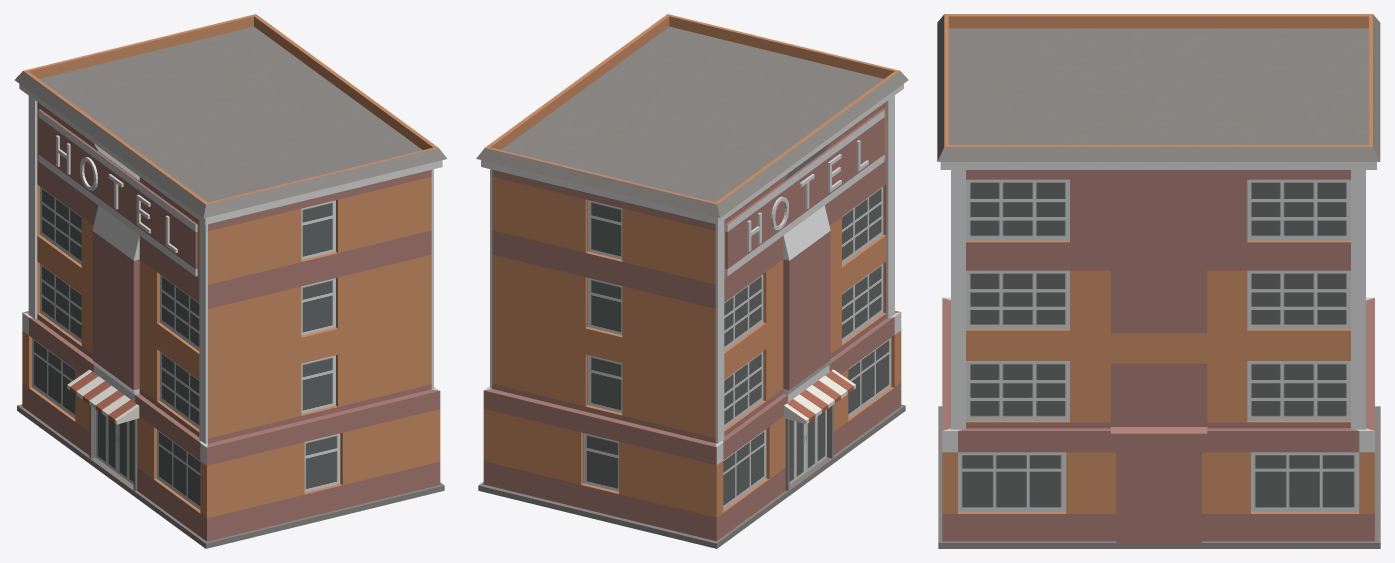
File: hotel.fbx
The picture shows the model from 3 angles, left to right: view 1: azimuth 30°, elevation 25°; view 2: azimuth 150°, elevation 25°; view 3: azimuth 270°, elevation 25°; orthographic projection. The views are drawn at different scales.
Parts seen in each view (by area): view 1: sptp_building_15; view 2: sptp_building_15; view 3: sptp_building_15.
Part boxes in pixels (x1,y1,x2,y2): sptp_building_15: [15, 14, 447, 548]; sptp_building_15: [476, 14, 908, 548]; sptp_building_15: [937, 14, 1380, 548].
Size of the model in its own units: 805 by 1007 by 1012.
1 material, 1 textured.
